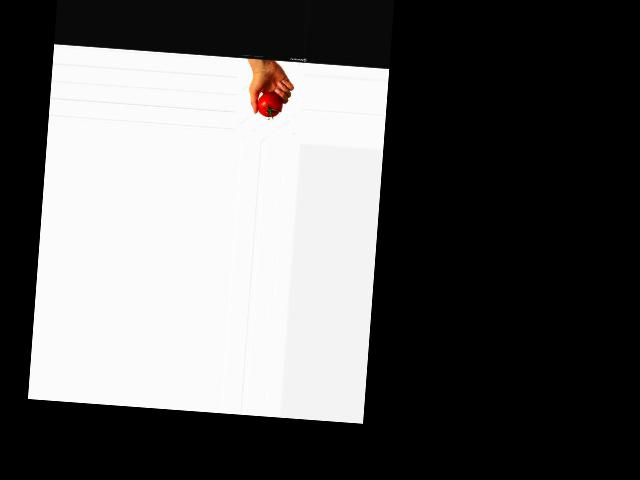tomato: (256, 91, 282, 118)
